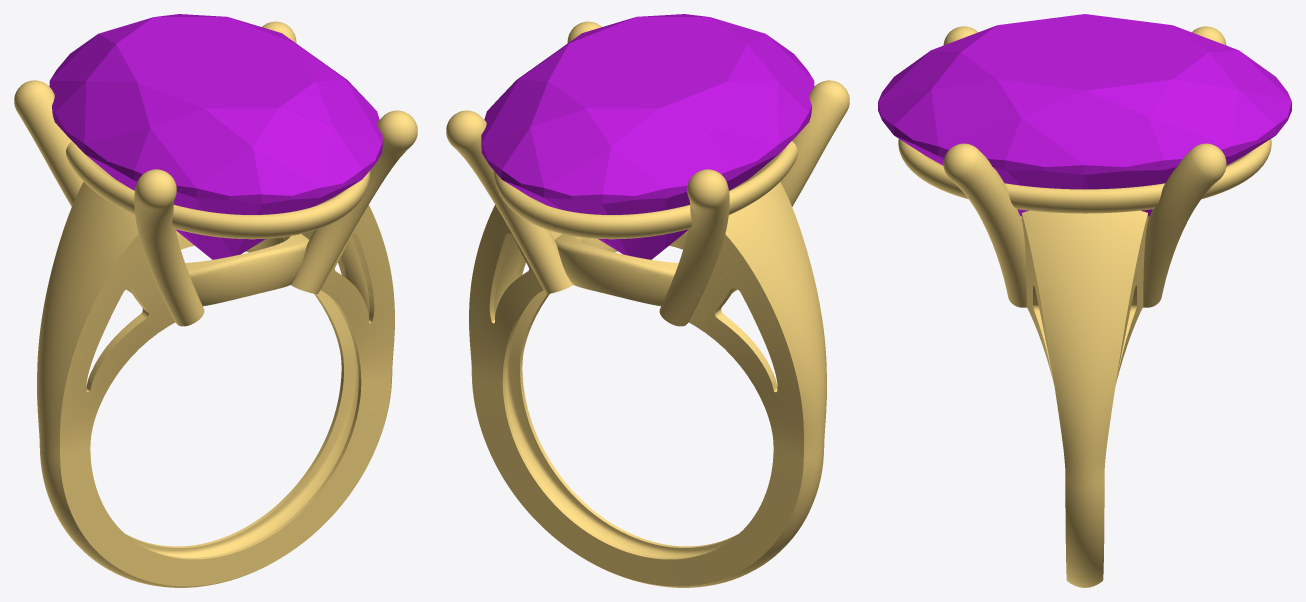
Rendered from JimGygAME.glb.
3 views of the same model, side by side, from view 1: azimuth 30°, elevation 25°; view 2: azimuth 150°, elevation 25°; view 3: azimuth 270°, elevation 25° (orthographic).
Parts seen in each view (by area): view 1: Jim YG for 3d model, Jim amethyst for 3d model; view 2: Jim YG for 3d model, Jim amethyst for 3d model; view 3: Jim amethyst for 3d model, Jim YG for 3d model.
Part boxes in pixels (x1,y1,x2,y2): Jim YG for 3d model: (14, 21, 417, 587); Jim amethyst for 3d model: (49, 14, 382, 259); Jim YG for 3d model: (446, 21, 849, 587); Jim amethyst for 3d model: (481, 14, 814, 259); Jim amethyst for 3d model: (878, 14, 1291, 216); Jim YG for 3d model: (898, 26, 1271, 587).
Bounding box in the file's own units: 20.43 × 29.09 × 21.12.
